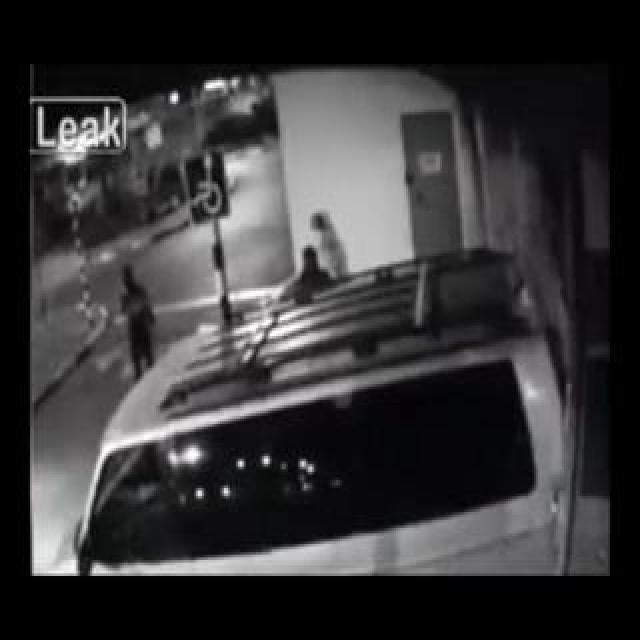burglary: (464, 226, 594, 521)
